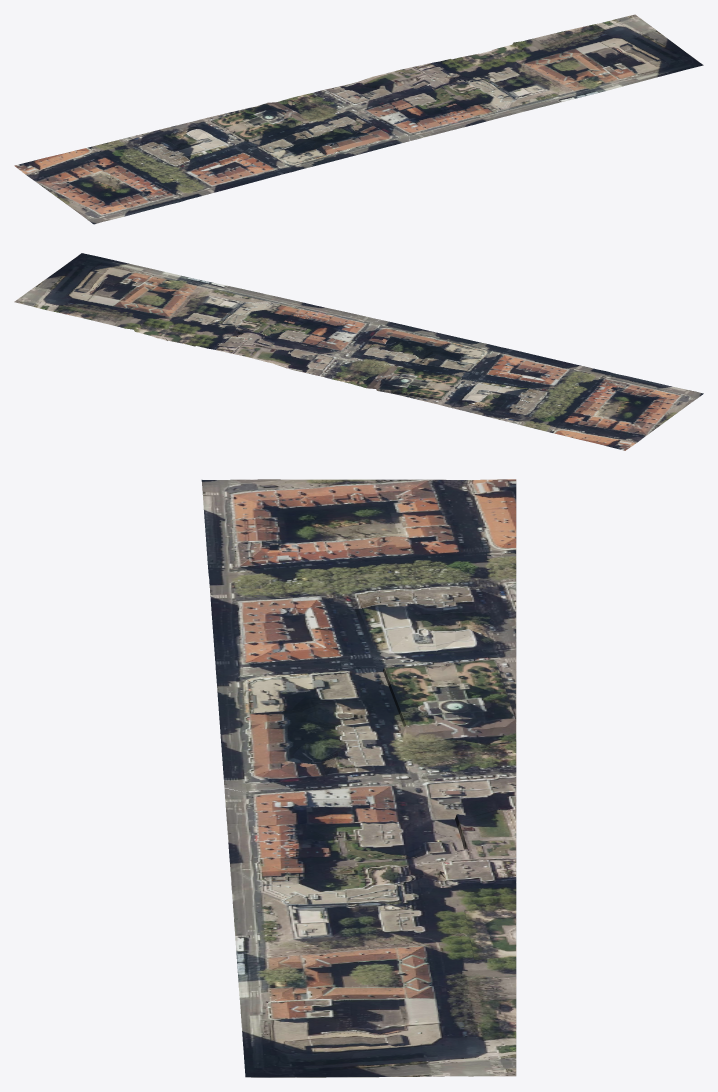
File: gml_c9b1830c-4fe8-4fea-bfd7-87af196e6721.gltf
3 renders of one model, top to bottom at view 1: azimuth 30°, elevation 25°; view 2: azimuth 150°, elevation 25°; view 3: azimuth 270°, elevation 25°, orthographic. The views are drawn at different scales.
Parts seen in each view (by area): view 1: Z_UP; view 2: Z_UP; view 3: Z_UP.
Part boxes in pixels (x1,y1,x2,y2): Z_UP: (14, 14, 703, 224); Z_UP: (14, 253, 703, 450); Z_UP: (201, 479, 516, 1077).
Bounding box in the file's own units: 500 × 4.39 × 111.
Materials: 1 (1 with a texture image).
